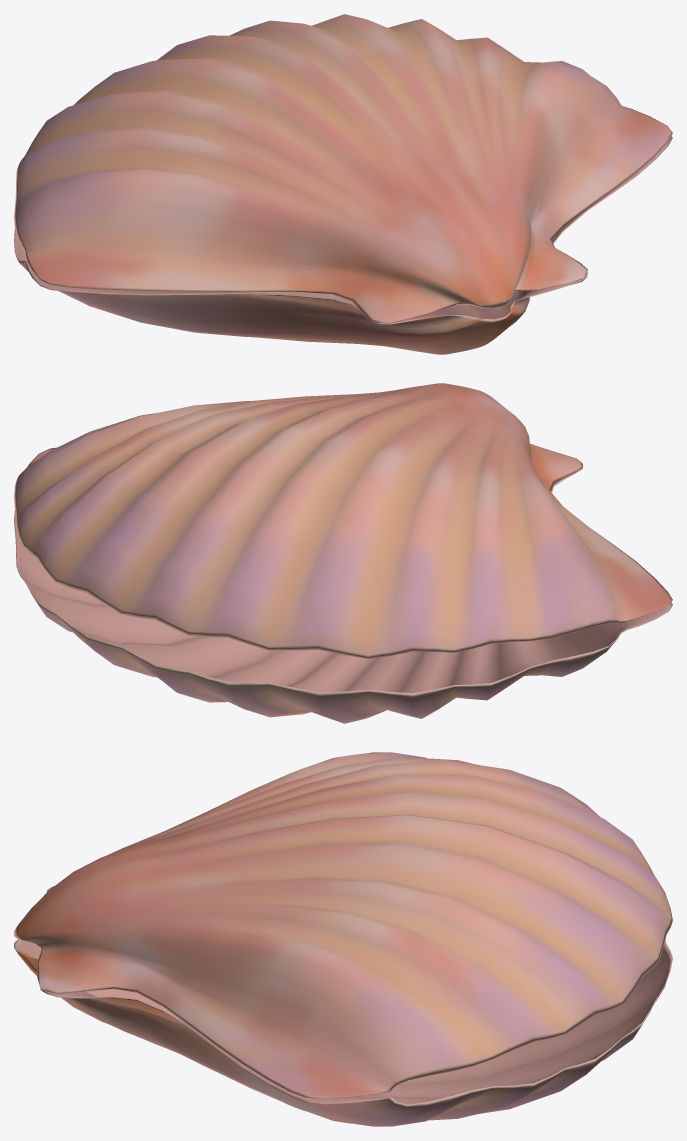
File: Shellfish.fbx
The picture shows the model from 3 angles, top to bottom: view 1: azimuth 30°, elevation 25°; view 2: azimuth 150°, elevation 25°; view 3: azimuth 270°, elevation 25°; orthographic projection. The views are drawn at different scales.
Parts seen in each view (by area): view 1: Circle.001; view 2: Circle.001; view 3: Circle.001.
Part boxes in pixels (left/top/right/bottom): Circle.001: left=14, top=14, right=672, bottom=354; Circle.001: left=14, top=383, right=672, bottom=723; Circle.001: left=14, top=752, right=672, bottom=1126.
Bounding box in the file's own units: 194 × 75.29 × 166.
Materials: 1 (1 with a texture image).
